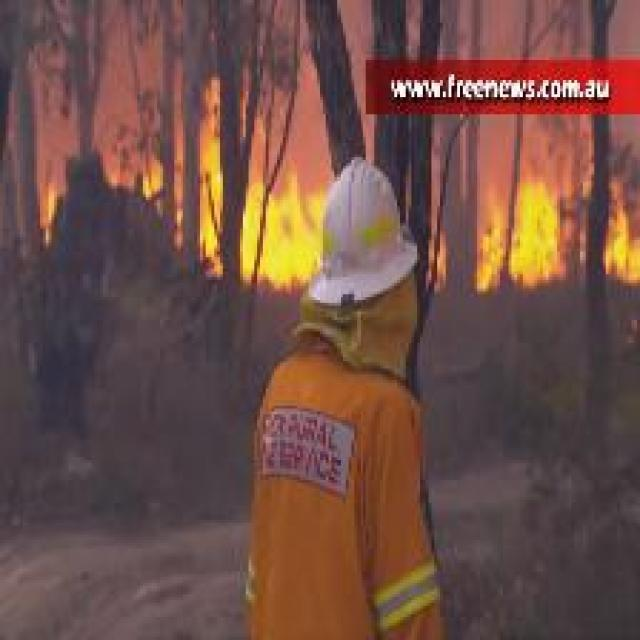Fire: (206, 83, 326, 294), (477, 173, 640, 293)
